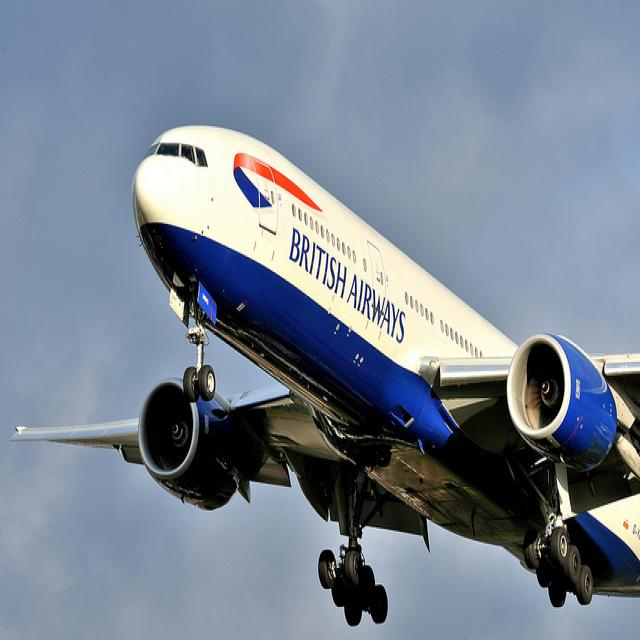airplane: (8, 121, 640, 629)
